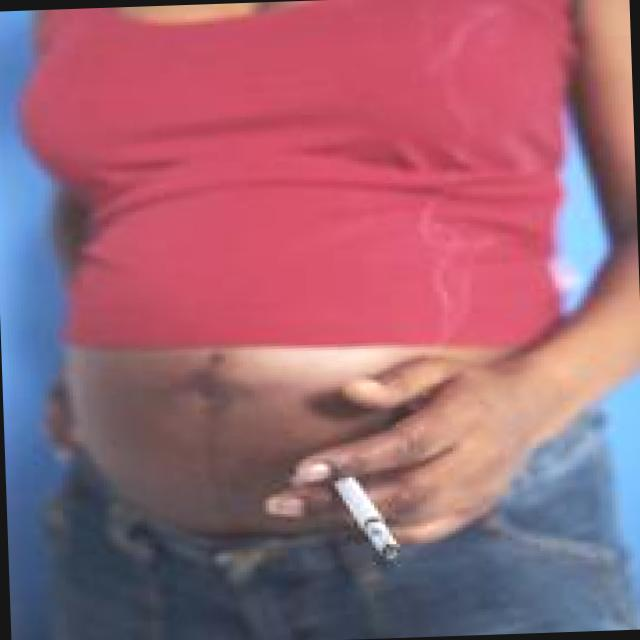smoke: (301, 432, 418, 580)
